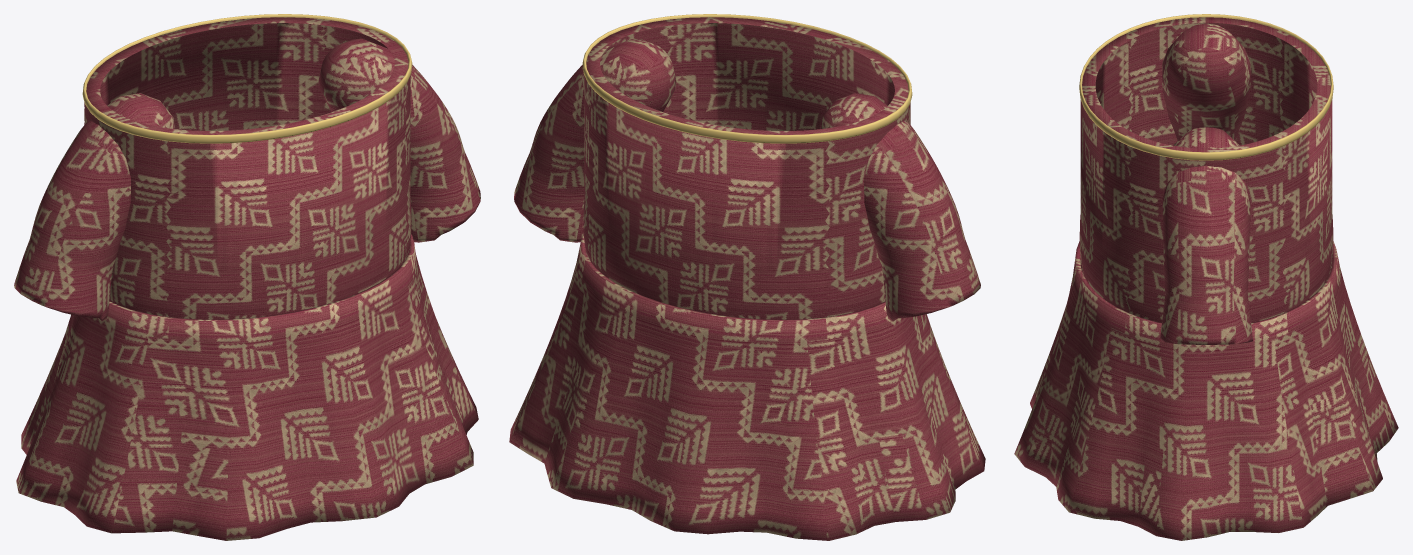
The model's file is abaya5.fbx.
The picture shows the model from 3 angles, left to right: view 1: azimuth 30°, elevation 25°; view 2: azimuth 150°, elevation 25°; view 3: azimuth 270°, elevation 25°; orthographic projection. The views are drawn at different scales.
Parts seen in each view (by area): view 1: abaya5; view 2: abaya5; view 3: abaya5.
Boxes of the visible parts, x1,y1,x2,y2 form: abaya5: (14, 14, 480, 540); abaya5: (509, 14, 985, 540); abaya5: (1014, 14, 1398, 540).
Bounding box in the file's own units: 1.3 × 1.05 × 1.01.
2 materials, 1 textured.
